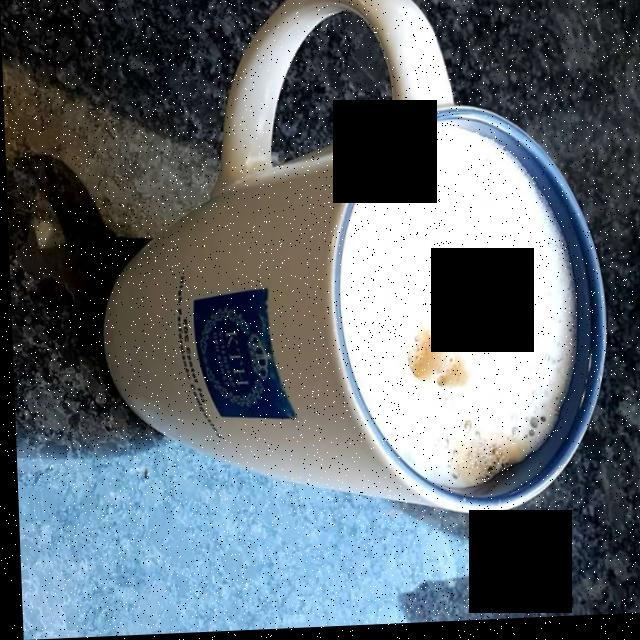cappuccino: (339, 130, 568, 486)
